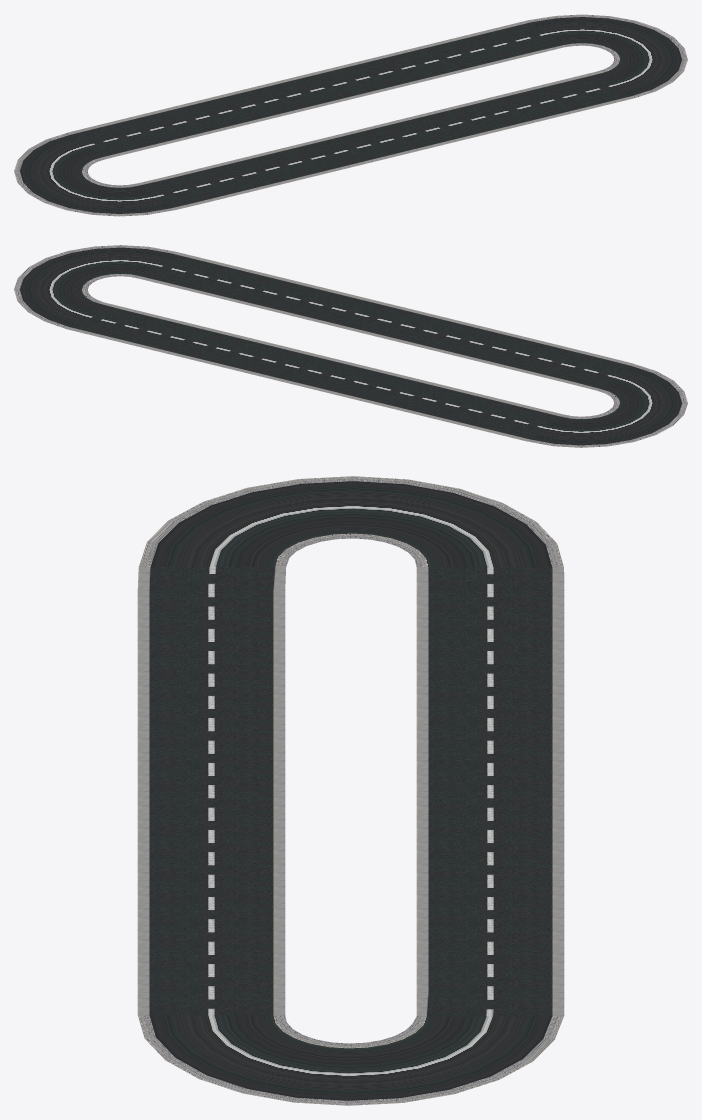
File: Track 2.obj
3 views of the same model, one above another, from view 1: azimuth 30°, elevation 25°; view 2: azimuth 150°, elevation 25°; view 3: azimuth 270°, elevation 25° (orthographic). The views are drawn at different scales.
Parts seen in each view (by area): view 1: Plane; view 2: Plane; view 3: Plane.
Boxes of the visible parts, x1,y1,x2,y2 form: Plane: [14, 14, 687, 216]; Plane: [14, 245, 687, 447]; Plane: [137, 476, 564, 1105].
Bounding box in the file's own units: 500 × 0 × 143.
Materials: 1 (1 with a texture image).
